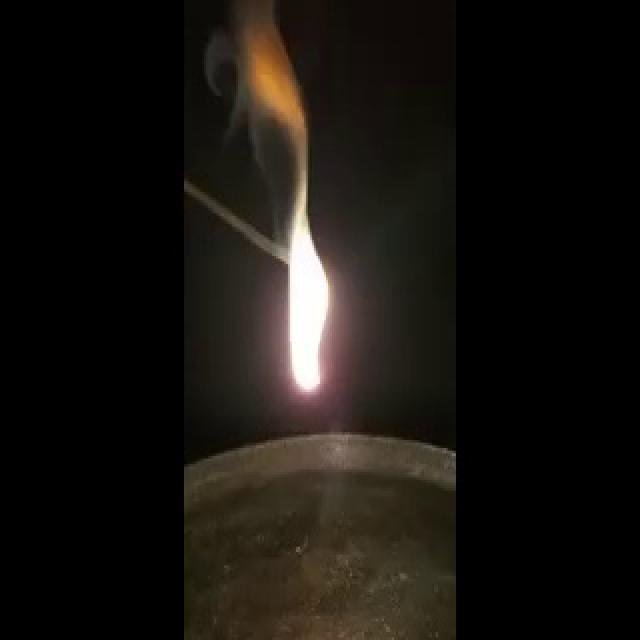fire: (261, 124, 343, 394)
